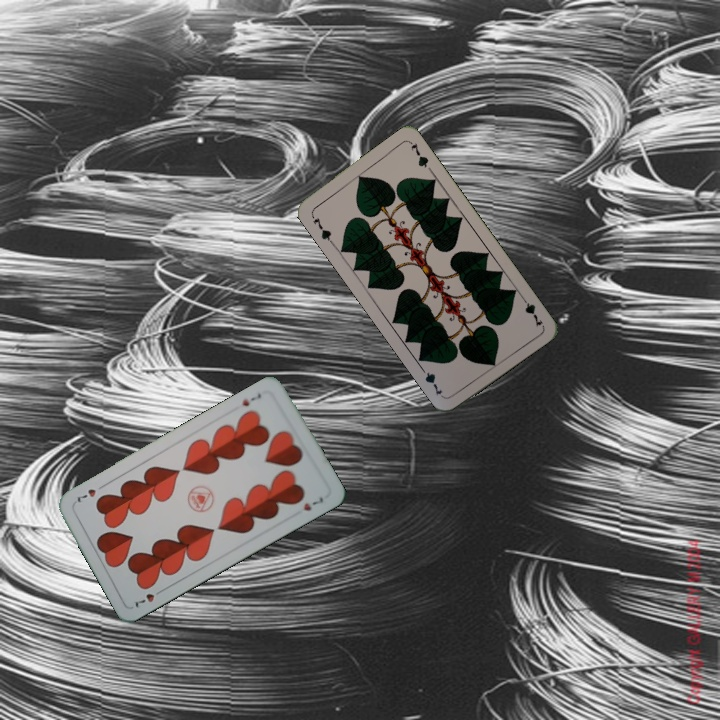G7: (517, 292, 545, 330), (307, 210, 335, 246)
H7: (130, 585, 167, 611), (238, 389, 264, 409)
